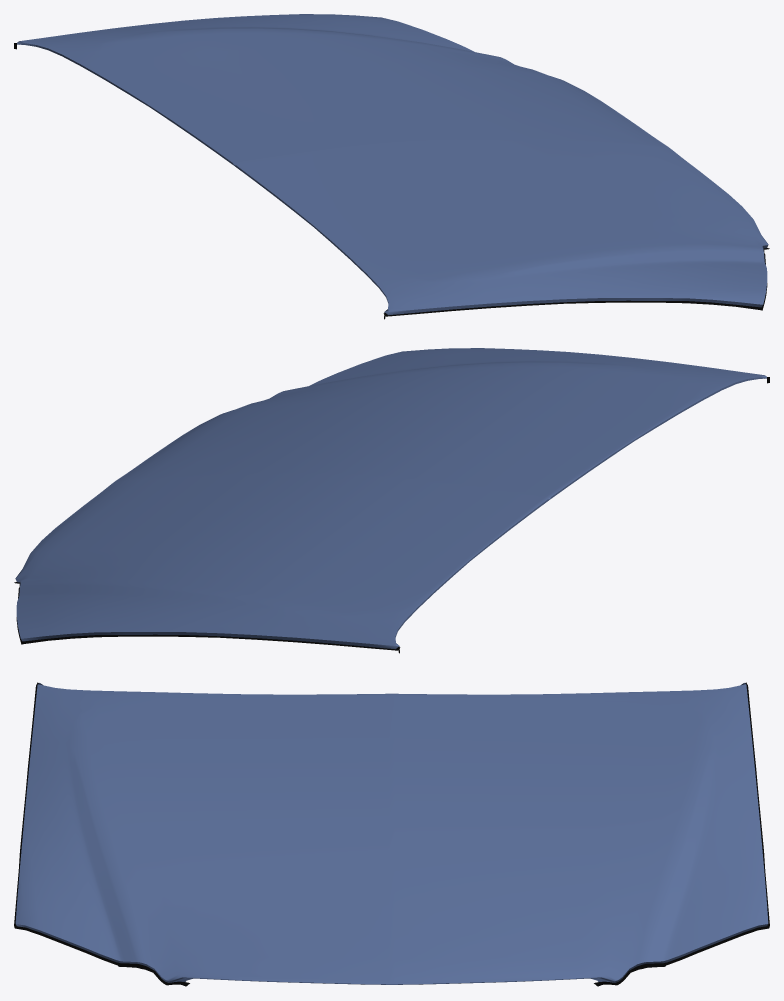
3 renders of one model, top to bottom at view 1: azimuth 30°, elevation 25°; view 2: azimuth 150°, elevation 25°; view 3: azimuth 270°, elevation 25°, orthographic. The views are drawn at different scales.
Visible parts, largest first — view 1: U236_17_101B_C_U236_17_101B_C_1_DaS, U236_17_101B_C_U236_17_101B_C_1_DaS_E, U236_17_101B_C_2_D_U236_17_101B_C; view 2: U236_17_101B_C_U236_17_101B_C_1_DaS, U236_17_101B_C_U236_17_101B_C_1_DaS_E, U236_17_101B_C_2_D_U236_17_101B_C; view 3: U236_17_101B_C_U236_17_101B_C_1_DaS, U236_17_101B_C_2_D_U236_17_101B_C, U236_17_101B_C_U236_17_101B_C_1_DaS_E.
Part boxes in pixels (x1,y1,x2,y2): U236_17_101B_C_U236_17_101B_C_1_DaS: (20,14,768,311); U236_17_101B_C_U236_17_101B_C_1_DaS_E: (17,41,768,315); U236_17_101B_C_2_D_U236_17_101B_C: (14,43,769,319); U236_17_101B_C_U236_17_101B_C_1_DaS: (15,348,763,645); U236_17_101B_C_U236_17_101B_C_1_DaS_E: (15,375,766,649); U236_17_101B_C_2_D_U236_17_101B_C: (14,377,769,653); U236_17_101B_C_U236_17_101B_C_1_DaS: (15,684,768,984); U236_17_101B_C_2_D_U236_17_101B_C: (14,682,769,986); U236_17_101B_C_U236_17_101B_C_1_DaS_E: (16,683,767,984).
Bounding box in the file's own units: 96.92 × 20.87 × 140.
